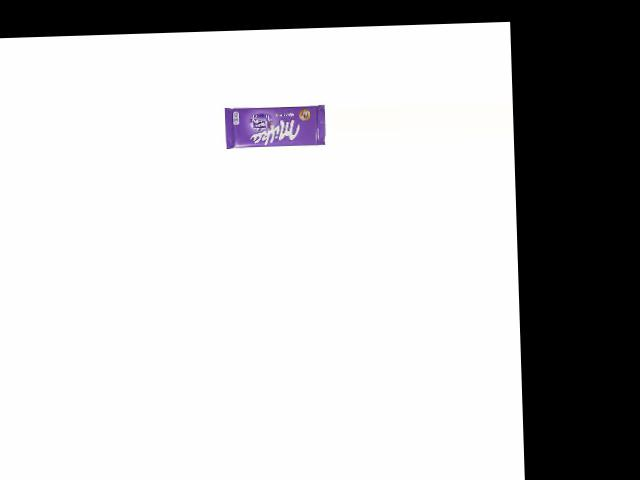chocolate: (219, 99, 326, 151)
